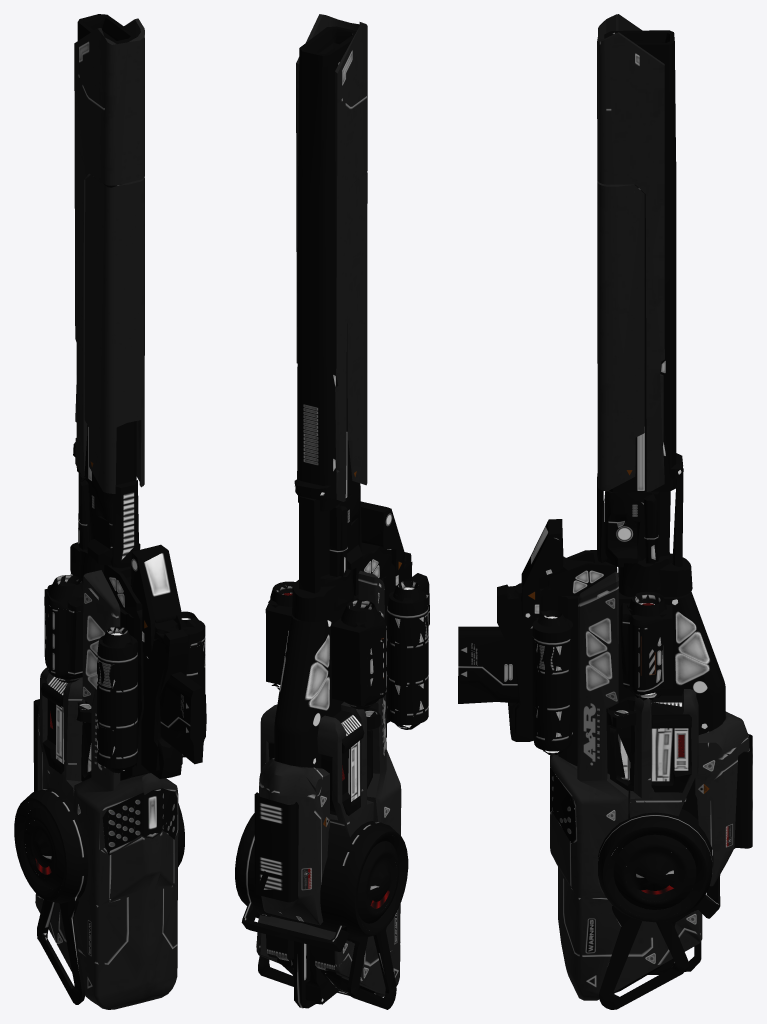
The model's file is omnisky-iii-cannon.glb.
3 renders of one model, left to right at view 1: azimuth 30°, elevation 25°; view 2: azimuth 150°, elevation 25°; view 3: azimuth 270°, elevation 25°, orthographic.
Visible parts, largest first — view 1: barrel_main, ventilation; view 2: barrel_main, ventilation; view 3: barrel_main, ventilation.
Part boxes in pixels (x1,y1,x2,y2): barrel_main: (14,14,206,1009); ventilation: (70,473,138,580); barrel_main: (235,14,429,1009); ventilation: (292,483,361,621); barrel_main: (458,14,752,1009); ventilation: (597,468,692,596).
Bounding box in the file's own units: 0.2055 × 1.51 × 0.417.
Materials: 8 (5 with a texture image).
